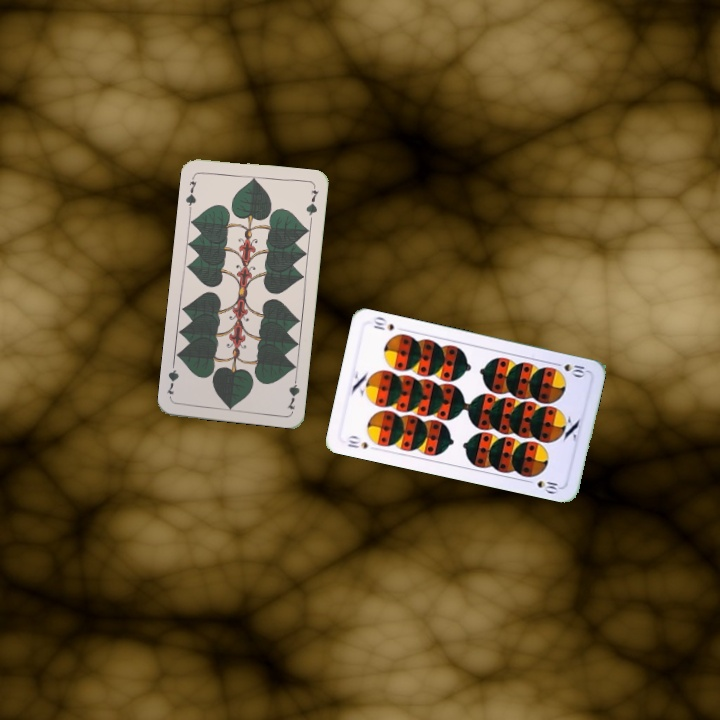G7: (283, 372, 302, 412), (181, 172, 199, 212)
S10: (550, 358, 590, 379), (344, 432, 370, 452)
